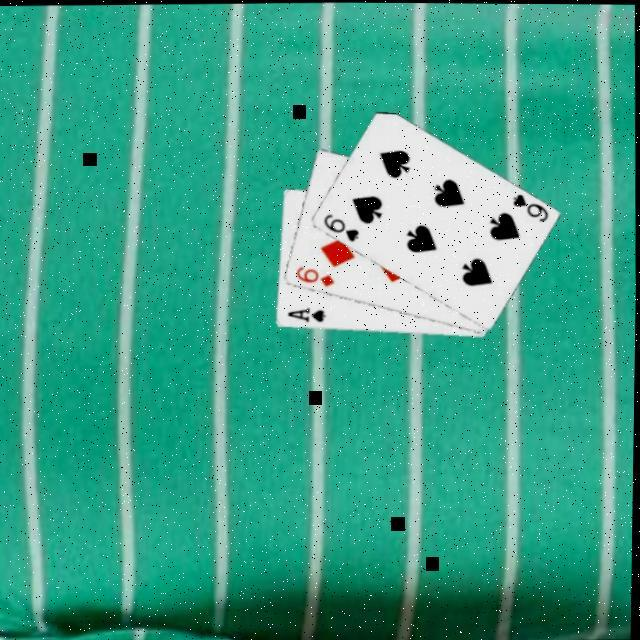6D: (290, 264, 336, 292)
6S: (318, 210, 361, 246), (506, 190, 549, 226)
AS: (283, 304, 327, 328)
